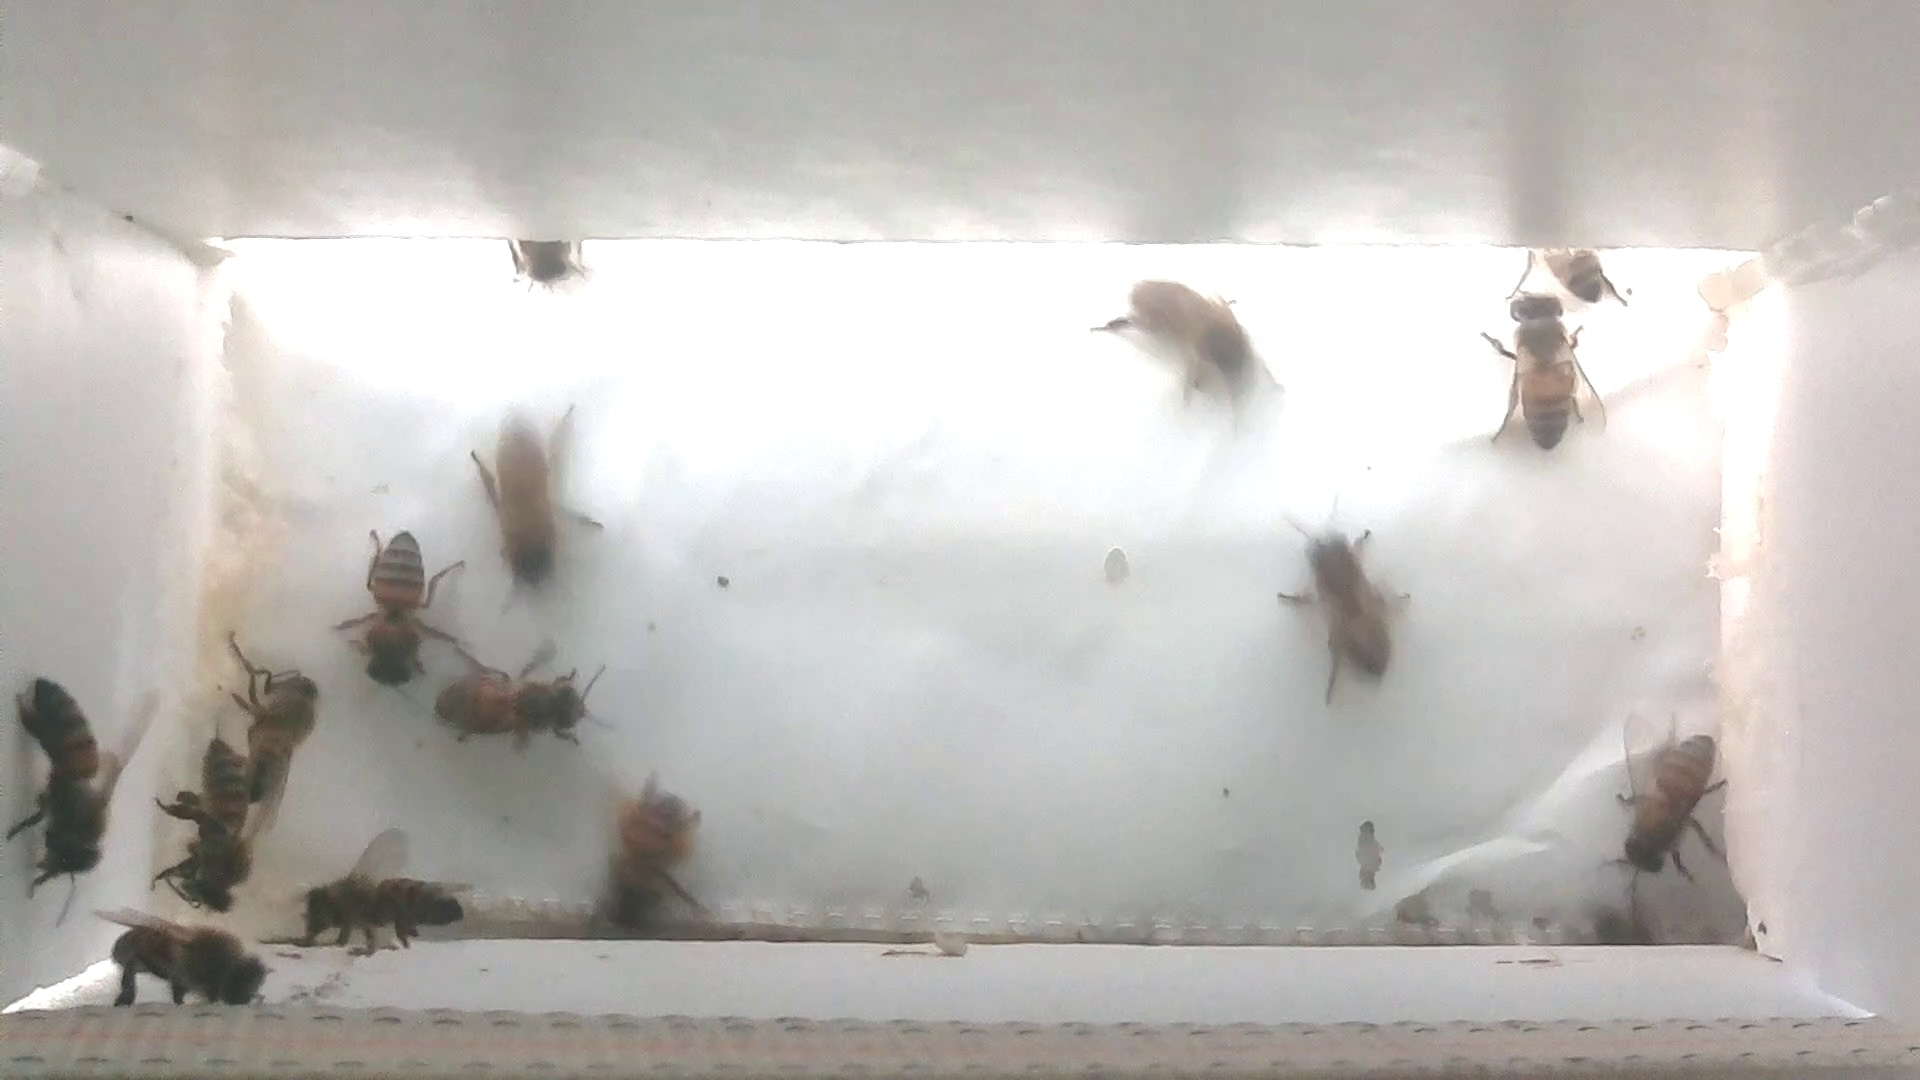bee: (9, 650, 145, 920), (1584, 694, 1753, 906), (1095, 258, 1280, 430), (459, 390, 615, 595), (421, 638, 644, 779), (320, 491, 464, 700), (1265, 509, 1420, 702), (564, 766, 725, 943), (88, 889, 280, 1029), (287, 829, 487, 955), (204, 625, 320, 835), (146, 715, 255, 923), (1480, 284, 1598, 465), (469, 218, 626, 301), (1509, 220, 1635, 319)
